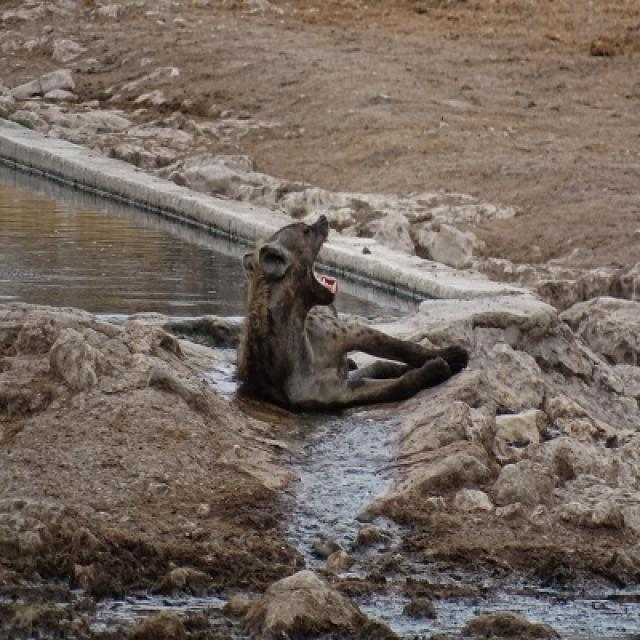hyena: (237, 216, 469, 414)
